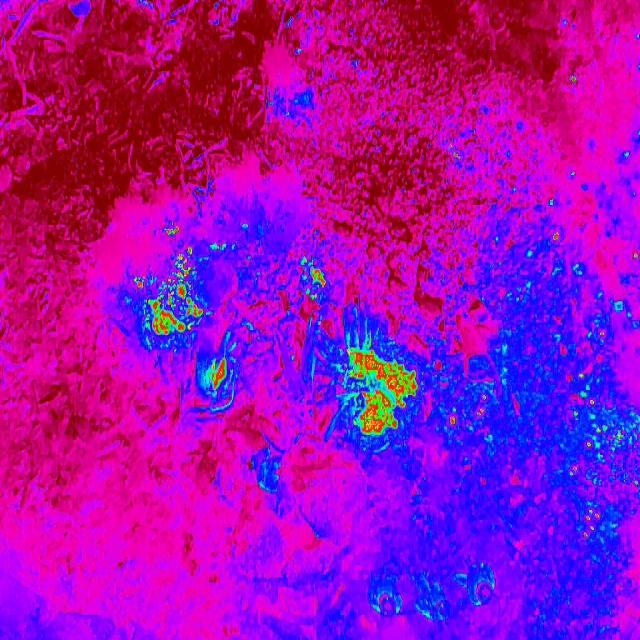fire: (541, 229, 640, 539), (343, 344, 418, 434), (136, 246, 204, 336), (442, 397, 493, 435), (296, 254, 328, 298), (204, 356, 232, 394), (162, 220, 183, 240), (448, 145, 463, 165), (566, 70, 578, 86)
